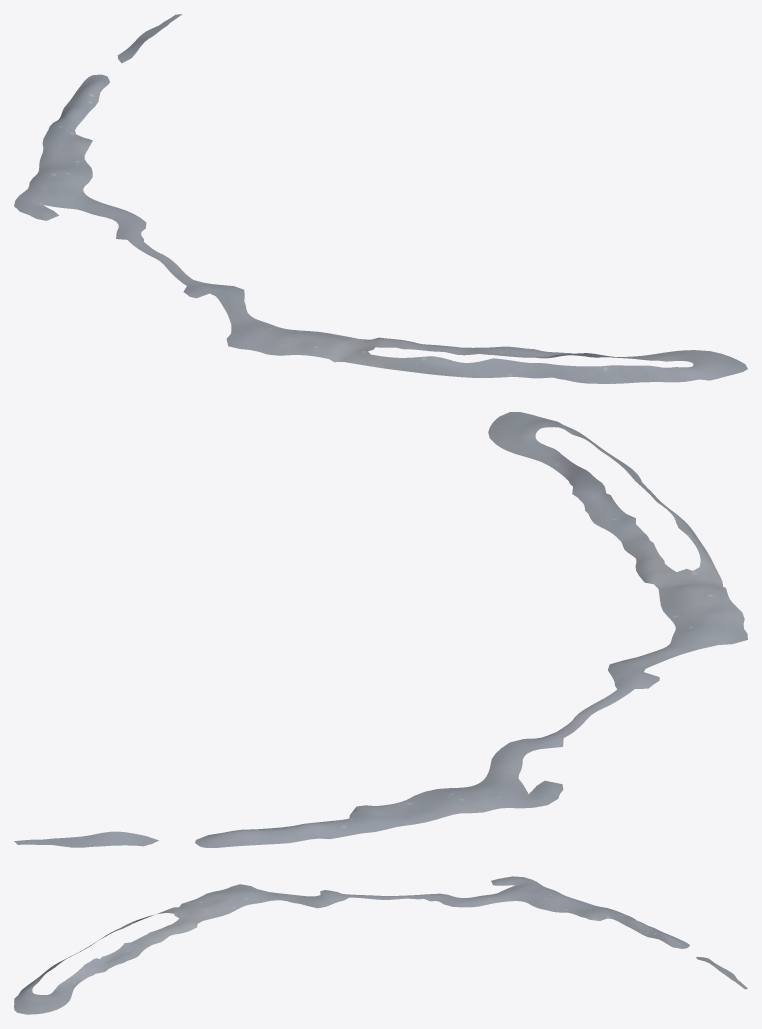
Rendered from pref_sm_beach_winter_blocksnow06_lv3.fbx.
The picture shows the model from 3 angles, top to bottom: view 1: azimuth 30°, elevation 25°; view 2: azimuth 150°, elevation 25°; view 3: azimuth 270°, elevation 25°; orthographic projection. The views are drawn at different scales.
Parts seen in each view (by area): view 1: pref_sm_beach_winter_blocksnow06_lv3; view 2: pref_sm_beach_winter_blocksnow06_lv3; view 3: pref_sm_beach_winter_blocksnow06_lv3.
Boxes of the visible parts, left/top/right/bottom form: pref_sm_beach_winter_blocksnow06_lv3: left=14, top=14, right=747, bottom=383; pref_sm_beach_winter_blocksnow06_lv3: left=14, top=412, right=747, bottom=847; pref_sm_beach_winter_blocksnow06_lv3: left=14, top=876, right=747, bottom=1014.
Bounding box in the file's own units: 18.47 × 0.6393 × 41.73.
